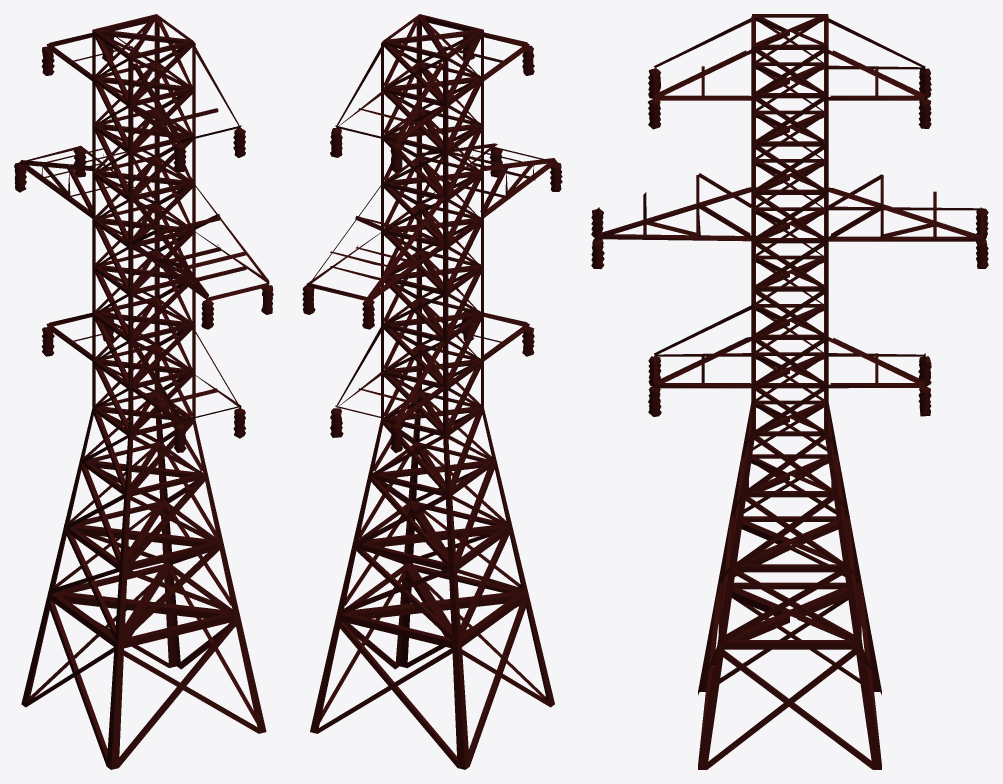
File: TransmissionTower.fbx
The picture shows the model from 3 angles, left to right: view 1: azimuth 30°, elevation 25°; view 2: azimuth 150°, elevation 25°; view 3: azimuth 270°, elevation 25°; orthographic projection. The views are drawn at different scales.
Parts seen in each view (by area): view 1: powerTransmissionTower; view 2: powerTransmissionTower; view 3: powerTransmissionTower.
Part boxes in pixels (x1,y1,x2,y2): powerTransmissionTower: (14,14,273,769); powerTransmissionTower: (302,14,562,769); powerTransmissionTower: (591,14,988,769).
Size of the model in its own units: 64.86 by 272 by 140.
Materials: 2 (2 with a texture image).
